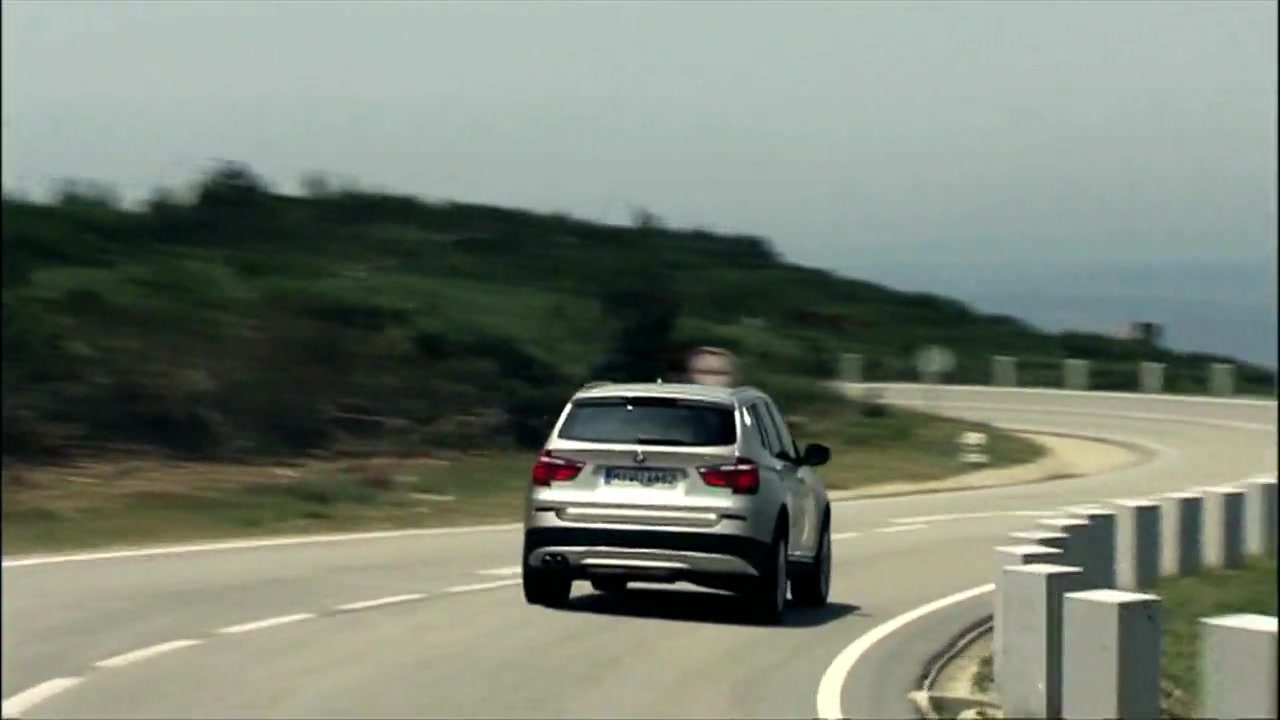car: (524, 378, 842, 622)
